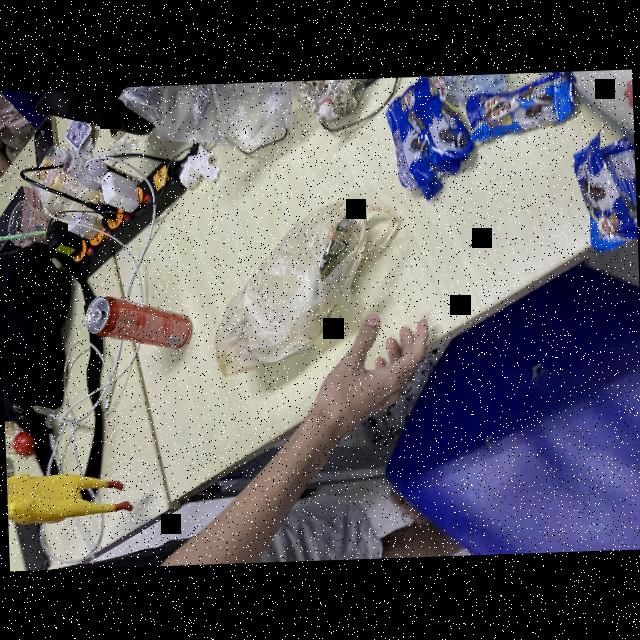can: (82, 290, 192, 354)
plastic_bag: (204, 195, 408, 376), (122, 80, 300, 146)
plastic_bottle: (56, 150, 144, 199)
plastic_box: (21, 143, 84, 218)
plastic_cup: (0, 201, 61, 245)
scrap_paper: (176, 146, 220, 190)
snack_bag: (372, 75, 472, 200), (568, 124, 638, 253), (463, 71, 577, 149)
straw: (0, 229, 47, 241)
